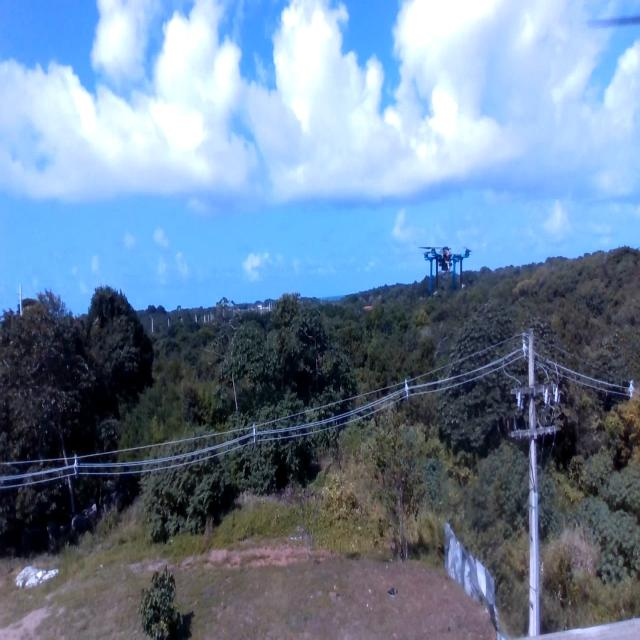-uav-: (412, 231, 477, 297)
